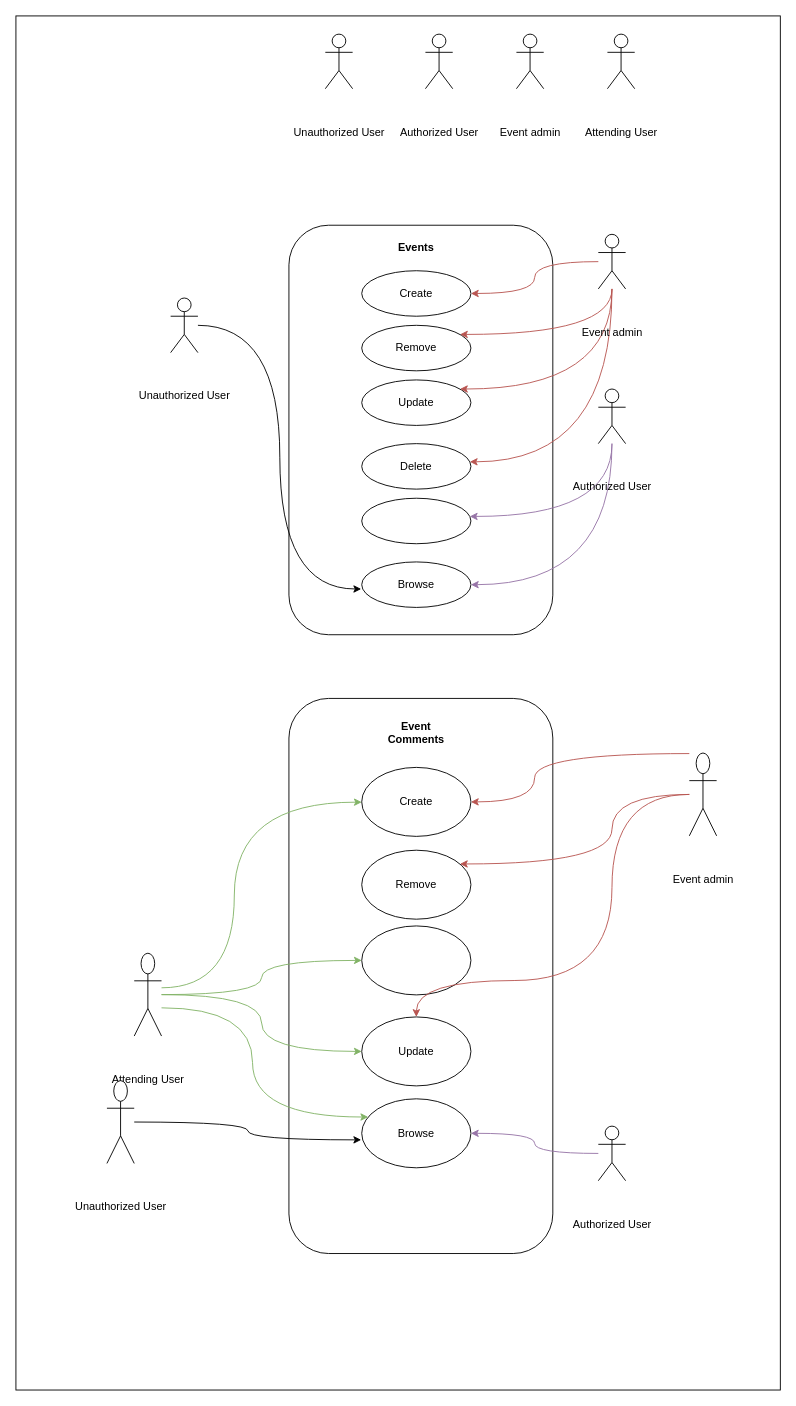
Some shapes in this 796 by 1406 pixel diagram are drawn without their labels. Here are the shapes that lost their labels. From the top down, the centre of each, then its label:
At point (416, 520): "Attend".
At point (416, 960): "Remove own".
